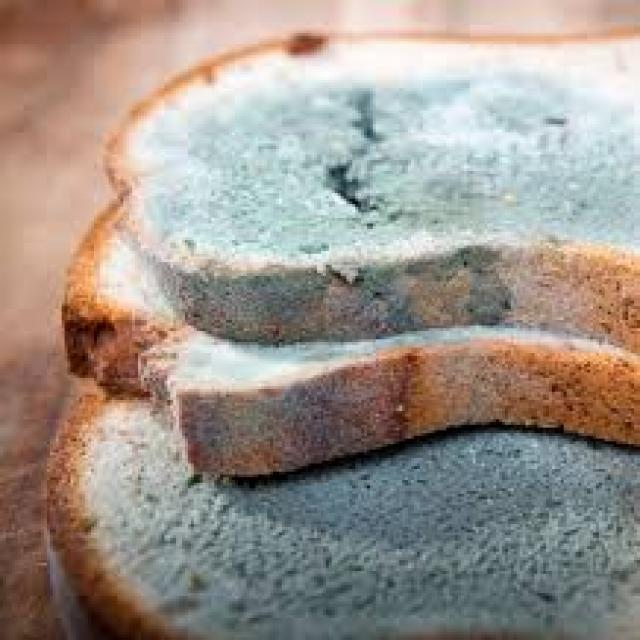organic waste: (100, 25, 637, 345), (59, 193, 637, 475), (41, 383, 637, 638)
